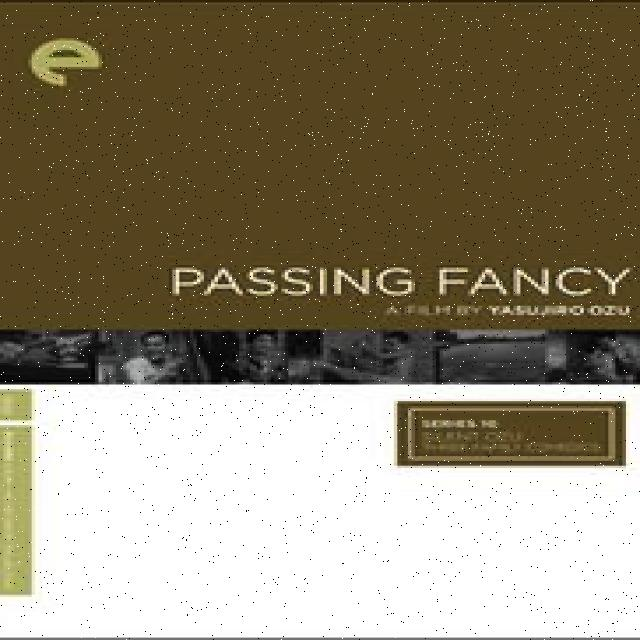movie-judul: (151, 239, 635, 327), (401, 404, 623, 466)
picture: (2, 317, 636, 404)
